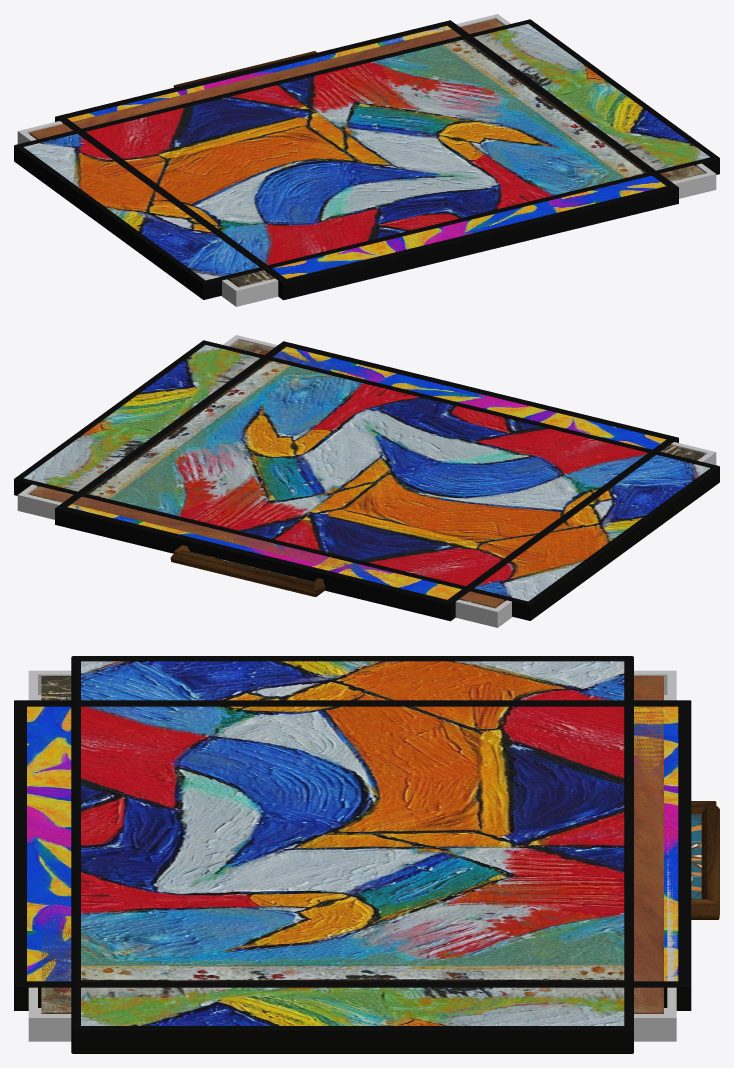
File: assorted pictures.gltf
The picture shows the model from 3 angles, top to bottom: view 1: azimuth 30°, elevation 25°; view 2: azimuth 150°, elevation 25°; view 3: azimuth 270°, elevation 25°; orthographic projection. The views are drawn at different scales.
Parts seen in each view (by area): view 1: painting, frame.004, frame.003, Thistles by John Singer Sargent, painting.001; view 2: painting, frame.004, frame.003, painting.001, Thistles by John Singer Sargent, Plane.022; view 3: painting, frame.003, painting.001, Thistles by John Singer Sargent, frame.004, Plane.022.
Part boxes in pixels (x1,y1,x2,y2): painting: (23, 24, 709, 280); frame.004: (55, 20, 678, 300); frame.003: (14, 19, 719, 299); Thistles by John Singer Sargent: (17, 14, 716, 306); painting.001: (67, 25, 666, 278); painting: (24, 345, 710, 601); frame.004: (55, 341, 678, 621); frame.003: (14, 340, 719, 620); painting.001: (67, 346, 666, 599); Thistles by John Singer Sargent: (17, 335, 716, 627); Plane.022: (170, 545, 325, 596); painting: (81, 661, 624, 1025); frame.003: (71, 656, 633, 1053); painting.001: (27, 706, 678, 981); Thistles by John Singer Sargent: (28, 670, 676, 1041); frame.004: (14, 700, 691, 1010); Plane.022: (691, 801, 719, 919).
Size of the model in its own units: 1.36 by 0.043 by 1.08.
